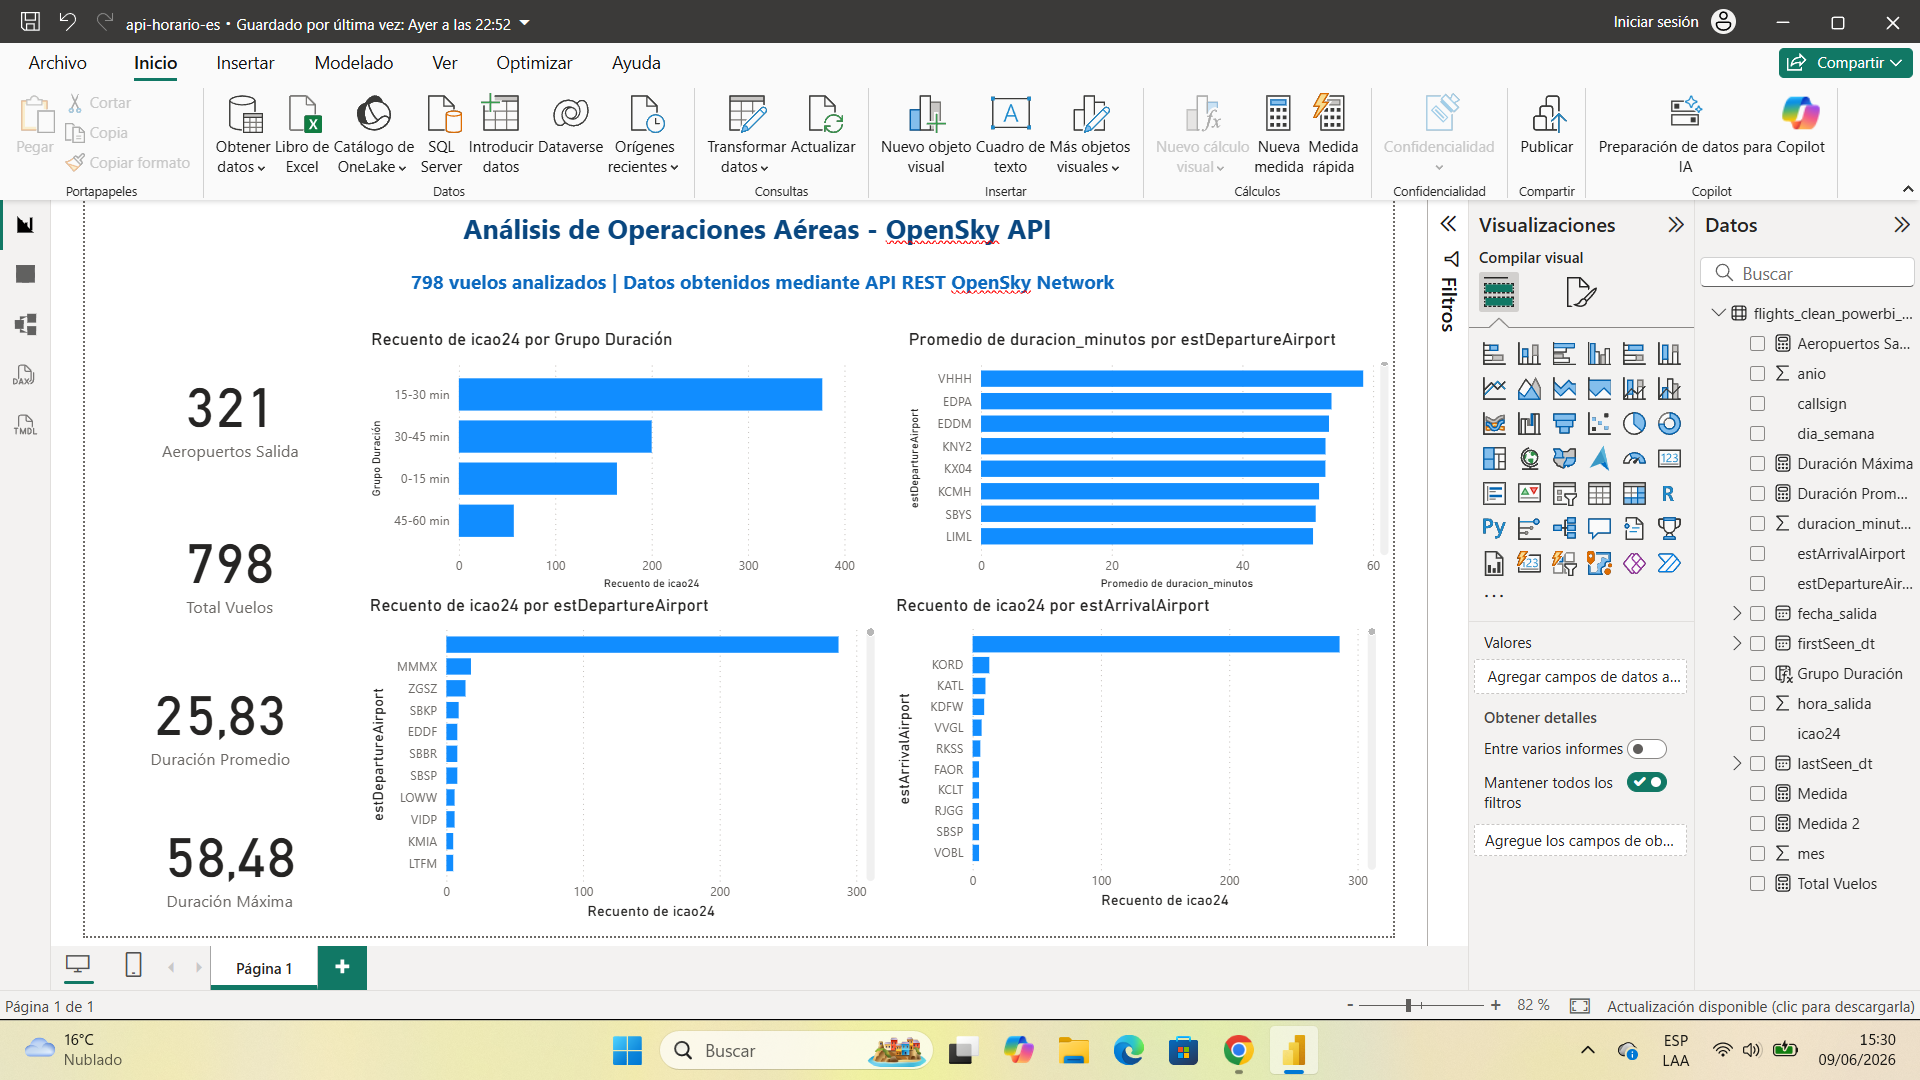

Layout of this report page (visuals, bound fields, positions):
{"tool":"powerbi","page":{"name":"Página 1","canvas":[1280,720],"ordinal":0},"visuals":[{"type":"card","fields":{"Values":["flights_clean_powerbi_es.Duración Promedio"]},"box":[0,430.4,265.4,155.3],"z":0},{"type":"card","fields":{"Values":["flights_clean_powerbi_es.Duración Máxima"]},"box":[9.8,585.7,264.1,123.5],"z":1000},{"type":"card","fields":{"Values":["flights_clean_powerbi_es.Total Vuelos"]},"box":[9.8,288.6,264.1,141.8],"z":2000},{"type":"clusteredBarChart","fields":{"Y":["CountNonNull(flights_clean_powerbi_es.icao24)"],"Category":["flights_clean_powerbi_es.estDepartureAirport"]},"box":[273.9,386.4,503.8,322.8],"z":3000},{"type":"clusteredBarChart","fields":{"Category":["flights_clean_powerbi_es.estArrivalAirport"],"Y":["CountNonNull(flights_clean_powerbi_es.icao24)"]},"box":[788.7,386.4,479.4,311.8],"z":4000},{"type":"clusteredBarChart","fields":{"Category":["flights_clean_powerbi_es.Grupo Duración"],"Y":["CountNonNull(flights_clean_powerbi_es.icao24)"]},"box":[275.1,126,483,260.5],"z":4001},{"type":"barChart","fields":{"Y":["Avg(flights_clean_powerbi_es.duracion_minutos)"],"Category":["flights_clean_powerbi_es.estDepartureAirport"]},"box":[801,126,479.4,260.5],"z":4002},{"type":"card","fields":{"Values":["flights_clean_powerbi_es.Aeropuertos Salida"]},"box":[9.8,126,265.4,162.6],"z":4003},{"type":"textbox","box":[92.9,4.9,1129.9,47.7],"z":4004},{"type":"textbox","box":[92.9,62.4,1139.7,47.7],"z":4005}]}

Visuals, with their boxes on the page's 1280x720 design canvas (x1, y1, x2, y2). These are canvas units, not pixel positions in the 1920x1080 screenshot, which may show the page scaled, cropped or inside an application window:
card - flights_clean_powerbi_es.Duración Promedio: left=0, top=430, right=265, bottom=586
card - flights_clean_powerbi_es.Duración Máxima: left=10, top=586, right=274, bottom=709
card - flights_clean_powerbi_es.Total Vuelos: left=10, top=289, right=274, bottom=430
clusteredBarChart - CountNonNull(flights_clean_powerbi_es.icao24) x flights_clean_powerbi_es.estDepartureAirport: left=274, top=386, right=778, bottom=709
clusteredBarChart - flights_clean_powerbi_es.estArrivalAirport x CountNonNull(flights_clean_powerbi_es.icao24): left=789, top=386, right=1268, bottom=698
clusteredBarChart - flights_clean_powerbi_es.Grupo Duración x CountNonNull(flights_clean_powerbi_es.icao24): left=275, top=126, right=758, bottom=386
barChart - Avg(flights_clean_powerbi_es.duracion_minutos) x flights_clean_powerbi_es.estDepartureAirport: left=801, top=126, right=1280, bottom=386
card - flights_clean_powerbi_es.Aeropuertos Salida: left=10, top=126, right=275, bottom=289
textbox: left=93, top=5, right=1223, bottom=53
textbox: left=93, top=62, right=1233, bottom=110
